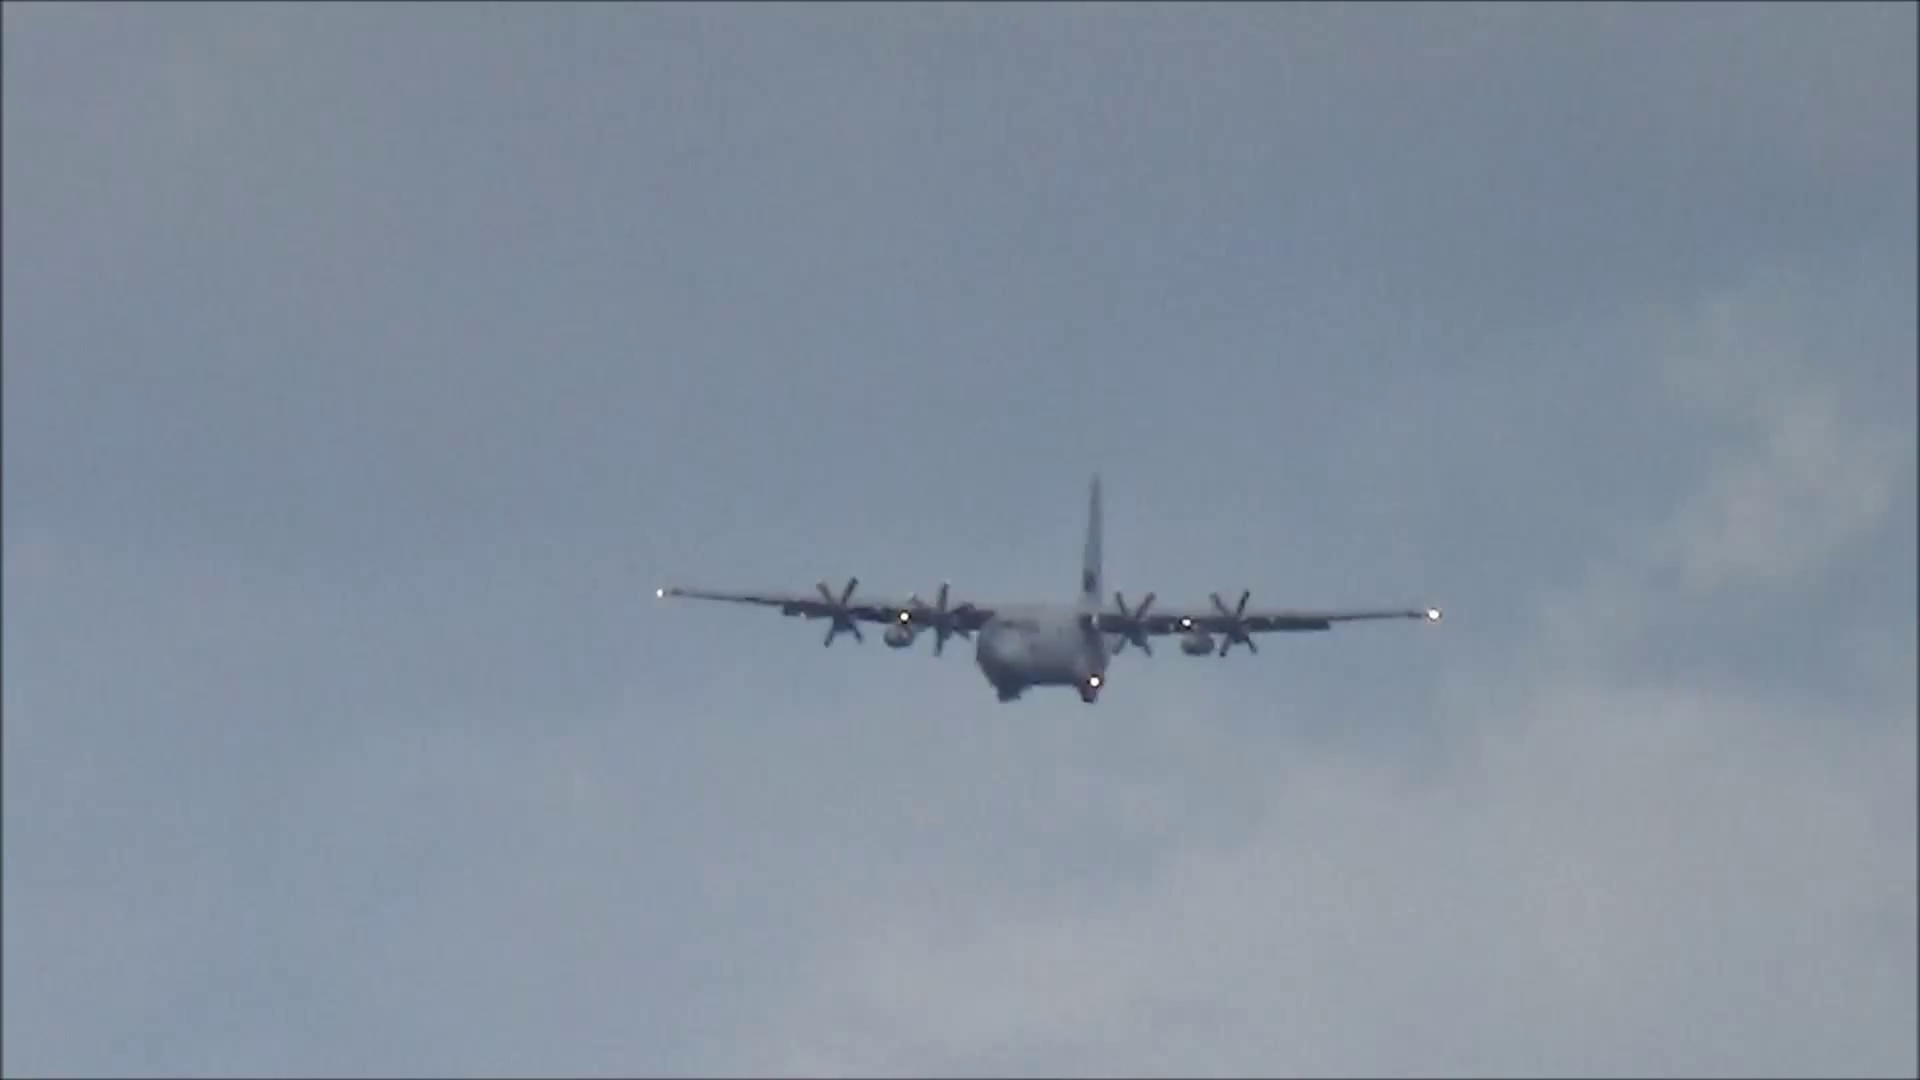Airplane: (655, 475, 1436, 700)
